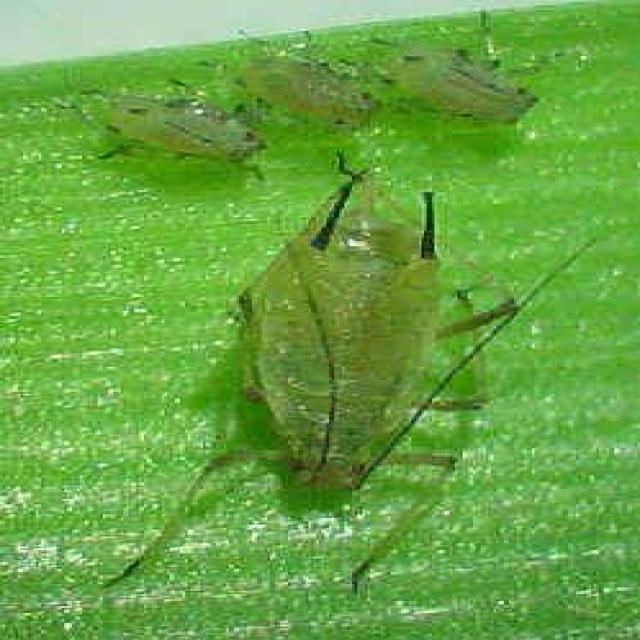Aphid-Grown-: (147, 184, 515, 538), (356, 41, 559, 137), (219, 43, 392, 145), (69, 86, 272, 172)
